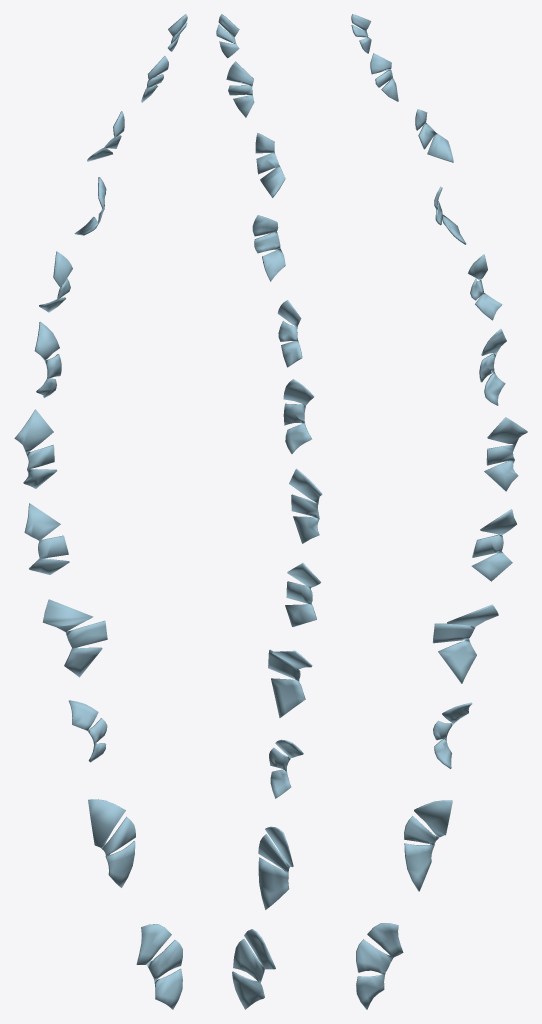
Rendered from articulacoes-radiate-ligament-of-head-of-rib-r.glb.
3 views of the same model, side by side, from view 1: azimuth 90°, elevation 25°; view 2: azimuth 210°, elevation 25°; view 3: azimuth 270°, elevation 25° (orthographic).
Parts seen in each view (by area): view 1: Radiate ligament of head of rib.r; view 2: Radiate ligament of head of rib.r; view 3: Radiate ligament of head of rib.r.
Boxes of the visible parts, bbox=[...] form: Radiate ligament of head of rib.r: bbox=[14, 14, 187, 1009]; Radiate ligament of head of rib.r: bbox=[216, 14, 322, 1009]; Radiate ligament of head of rib.r: bbox=[351, 14, 527, 1009].
Size of the model in its own units: 0.0126 by 0.3049 by 0.0486.
